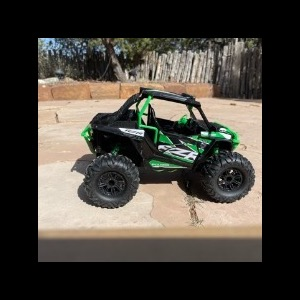polaris: (80, 87, 257, 211)
